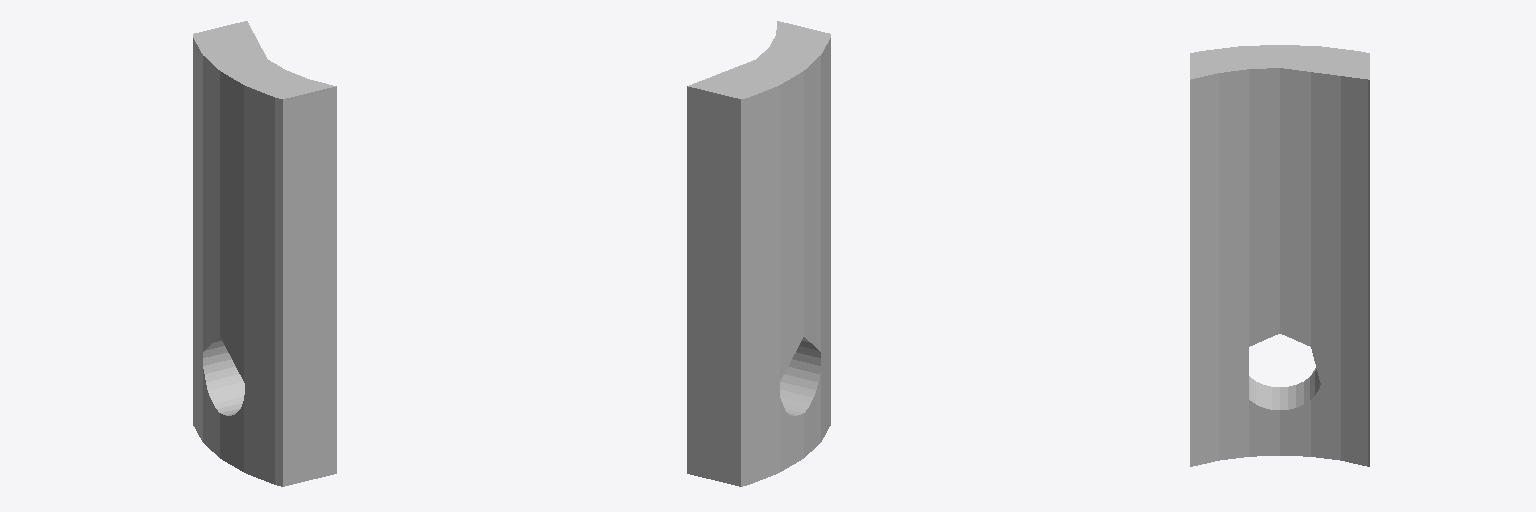
File: puerta.obj
3 renders of one model, left to right at view 1: azimuth 30°, elevation 25°; view 2: azimuth 150°, elevation 25°; view 3: azimuth 270°, elevation 25°, orthographic.
Visible parts, largest first — view 1: Cylinder; view 2: Cylinder; view 3: Cylinder.
Part boxes in pixels (left/top/right/bottom): Cylinder: left=193, top=21, right=336, bottom=486; Cylinder: left=687, top=21, right=830, bottom=486; Cylinder: left=1190, top=45, right=1369, bottom=466.
Size of the model in its own units: 1 by 5.15 by 2.16.